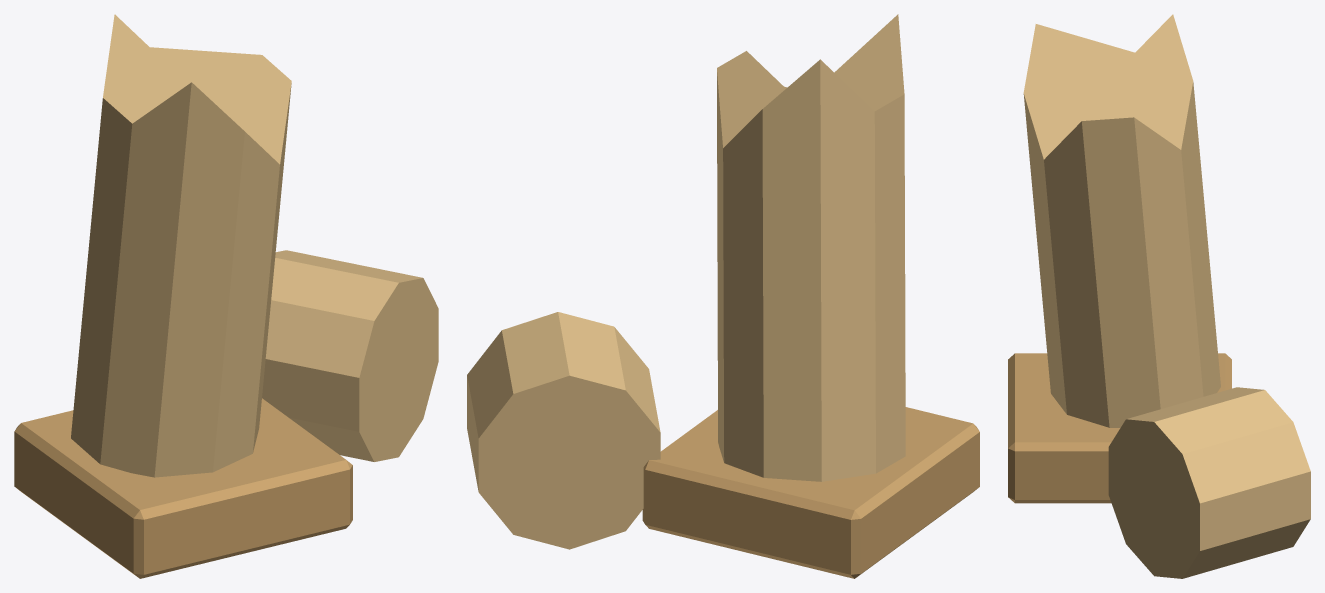
File: map3_ruin_pillar_v01.glb
3 views of the same model, side by side, from view 1: azimuth 30°, elevation 25°; view 2: azimuth 150°, elevation 25°; view 3: azimuth 270°, elevation 25° (orthographic). The views are drawn at different scales.
Visible parts, largest first — view 1: ruin_pillar; view 2: ruin_pillar; view 3: ruin_pillar.
Part boxes in pixels (<box>): ruin_pillar: <box>14,14,438,578</box>; ruin_pillar: <box>467,14,979,578</box>; ruin_pillar: <box>1008,14,1310,578</box>.
Bounding box in the file's own units: 1.87 × 2.19 × 1.35.
